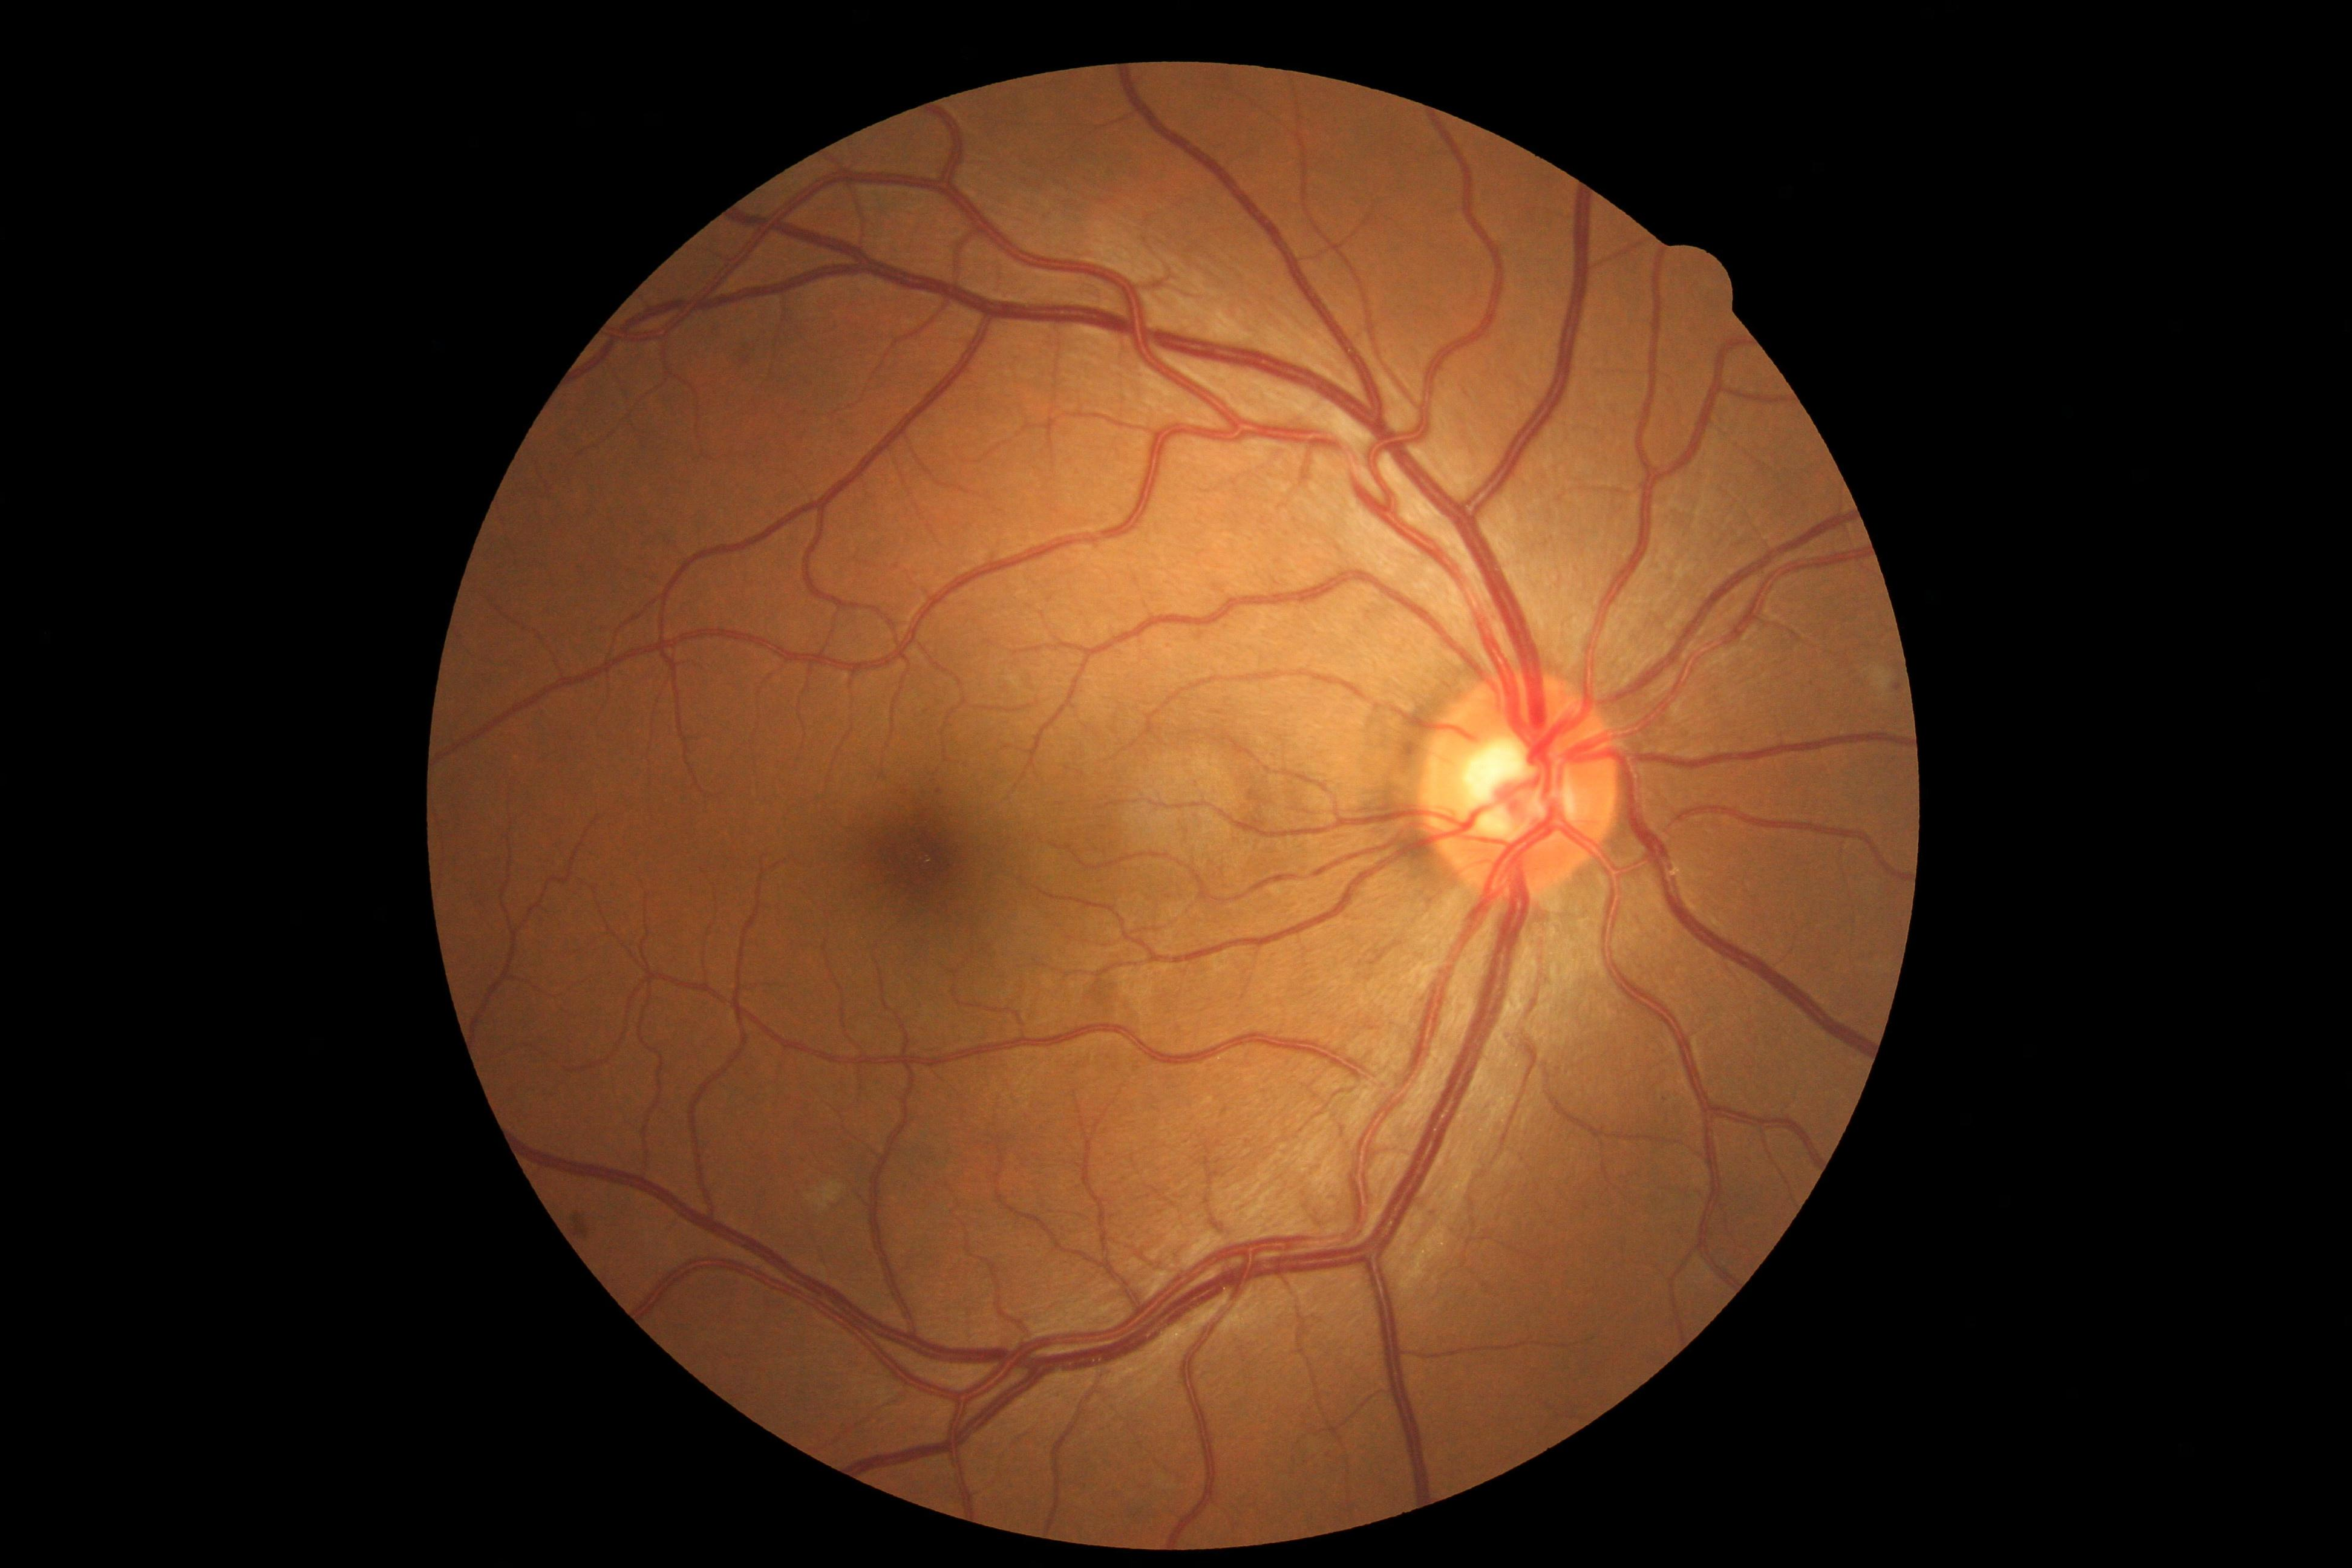Optic-nerve: (1405, 668, 1624, 901)
macula: (828, 782, 1006, 947)
notch: (1655, 238, 1745, 324)
